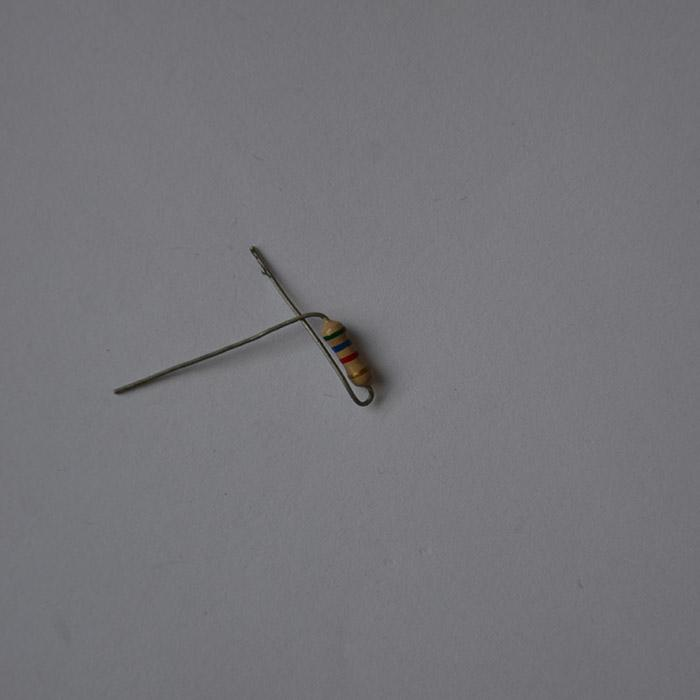resistor: (323, 316, 370, 385)
